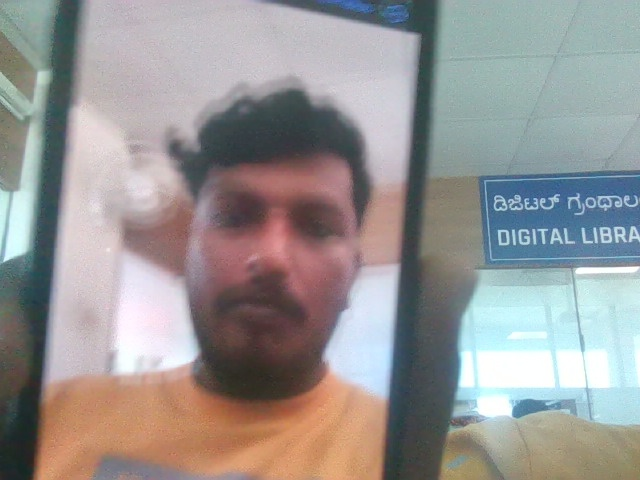fake: (163, 67, 391, 390)
